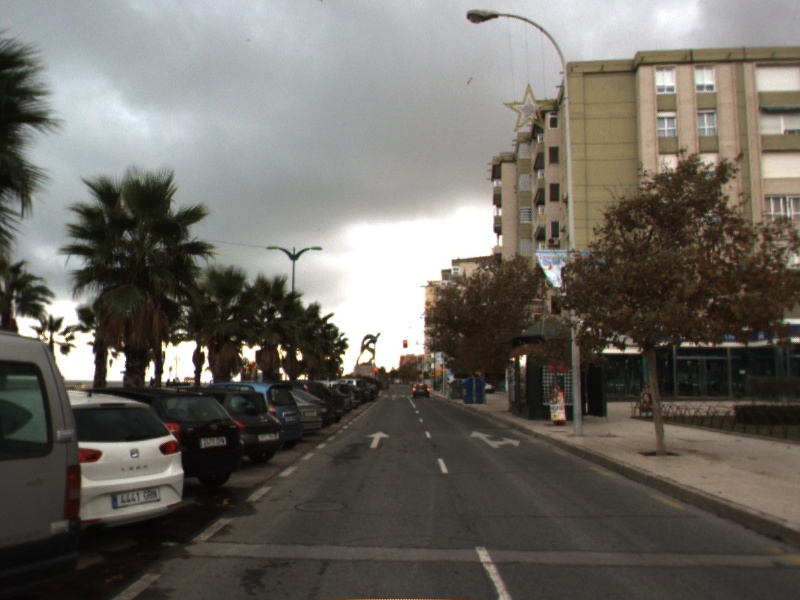STRAIGHT: (364, 430, 391, 450)
STRAIGHT_RIGHT: (468, 429, 522, 450)
